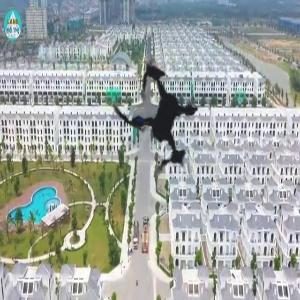drone: (61, 15, 268, 222)
